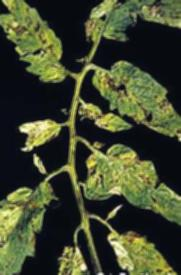Tomato Septoria leaf spot: (77, 141, 181, 235), (93, 58, 181, 148), (0, 171, 64, 275), (0, 0, 70, 85), (103, 231, 181, 275), (124, 0, 181, 35)
